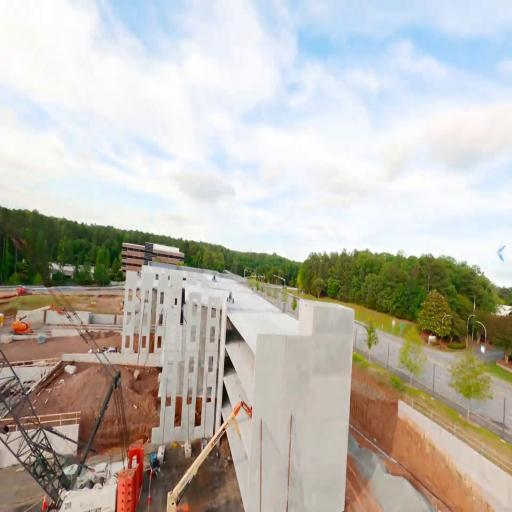uav: (496, 242, 507, 264)
